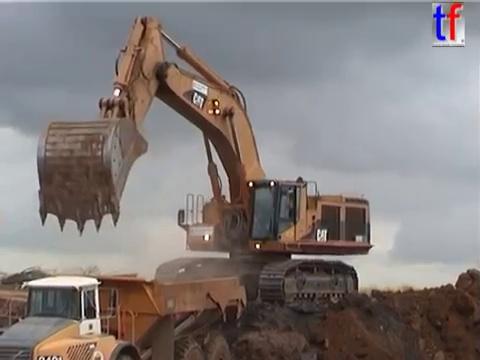excavator: (33, 13, 378, 316)
truck: (1, 270, 249, 360)
